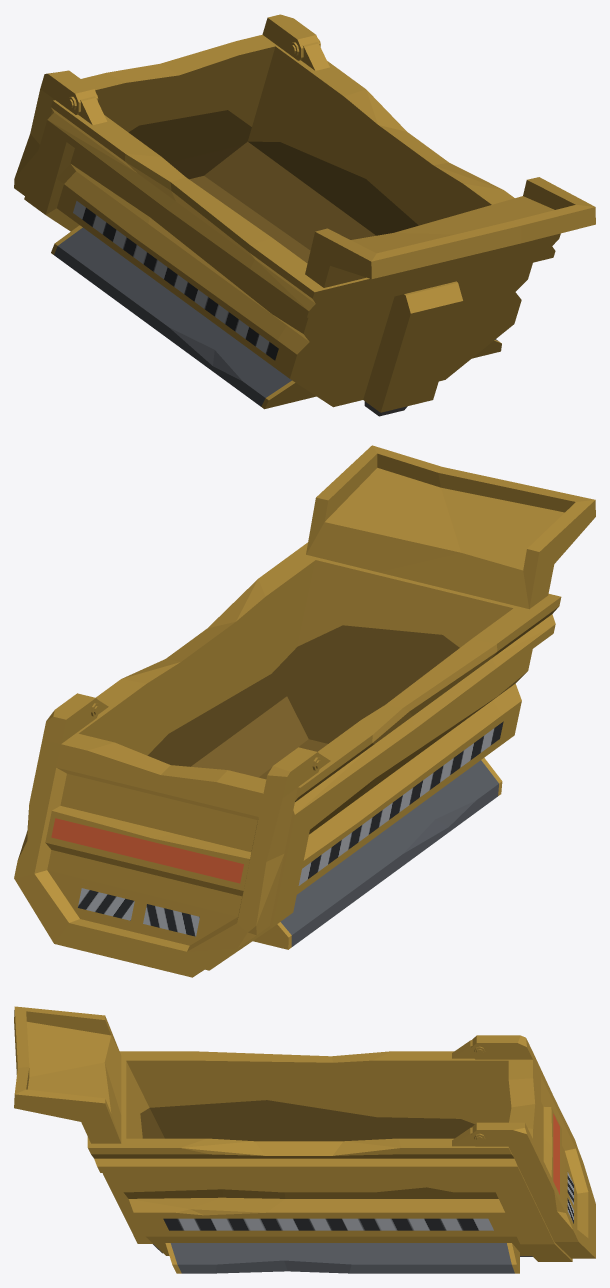
Rendered from SM_Veh_Truck_01_DumpTray_02.fbx.
3 views of the same model, one above another, from view 1: azimuth 30°, elevation 25°; view 2: azimuth 150°, elevation 25°; view 3: azimuth 270°, elevation 25° (orthographic). The views are drawn at different scales.
Parts seen in each view (by area): view 1: SM_Veh_Truck_01_DumpTray_02, SM_Veh_Truck_01_DumpTray_02_Door; view 2: SM_Veh_Truck_01_DumpTray_02, SM_Veh_Truck_01_DumpTray_02_Door; view 3: SM_Veh_Truck_01_DumpTray_02, SM_Veh_Truck_01_DumpTray_02_Door.
Boxes of the visible parts, box(x1,y1,x2,y2) form: SM_Veh_Truck_01_DumpTray_02: box(24, 38, 595, 416); SM_Veh_Truck_01_DumpTray_02_Door: box(14, 14, 319, 195); SM_Veh_Truck_01_DumpTray_02: box(77, 445, 595, 970); SM_Veh_Truck_01_DumpTray_02_Door: box(14, 693, 321, 977); SM_Veh_Truck_01_DumpTray_02: box(14, 1006, 572, 1273); SM_Veh_Truck_01_DumpTray_02_Door: box(471, 1035, 595, 1258).
Bounding box in the file's own units: 291 × 281 × 734.
